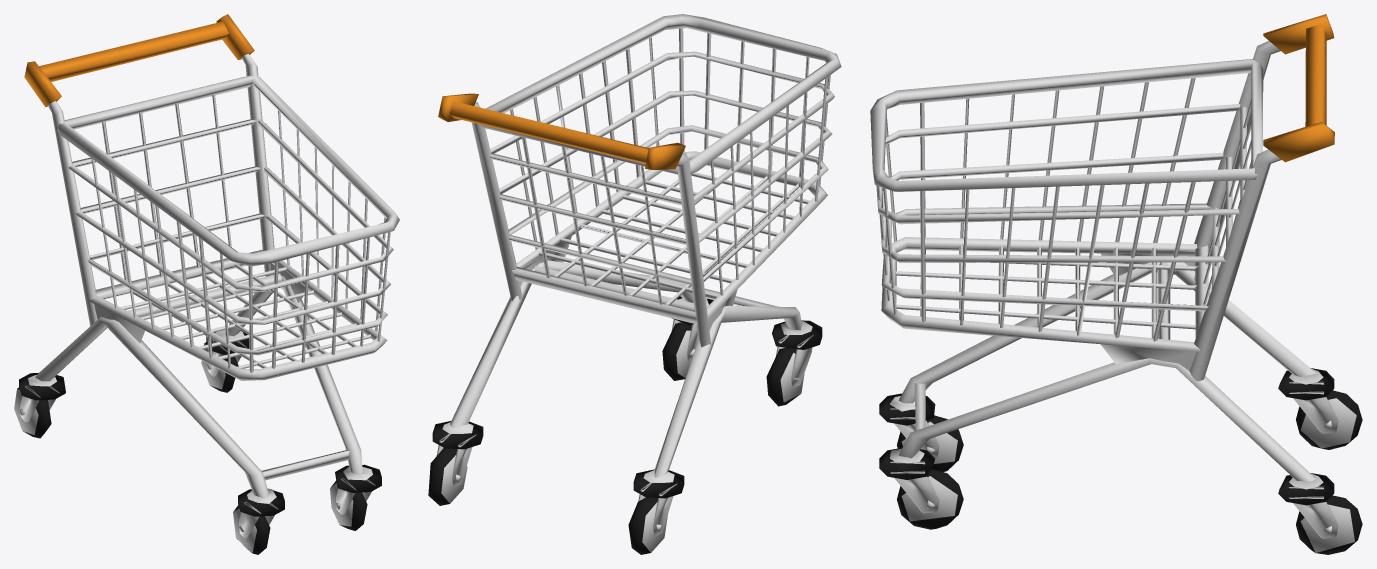
File: Shopping Cart.fbx
The picture shows the model from 3 angles, left to right: view 1: azimuth 30°, elevation 25°; view 2: azimuth 150°, elevation 25°; view 3: azimuth 270°, elevation 25°; orthographic projection. The views are drawn at different scales.
Parts seen in each view (by area): view 1: Einkaufswagen; view 2: Einkaufswagen; view 3: Einkaufswagen.
Boxes of the visible parts, x1,y1,x2,y2 form: Einkaufswagen: (14, 14, 399, 554); Einkaufswagen: (428, 14, 841, 554); Einkaufswagen: (870, 14, 1362, 554).
Size of the model in its own units: 184 by 289 by 298.
